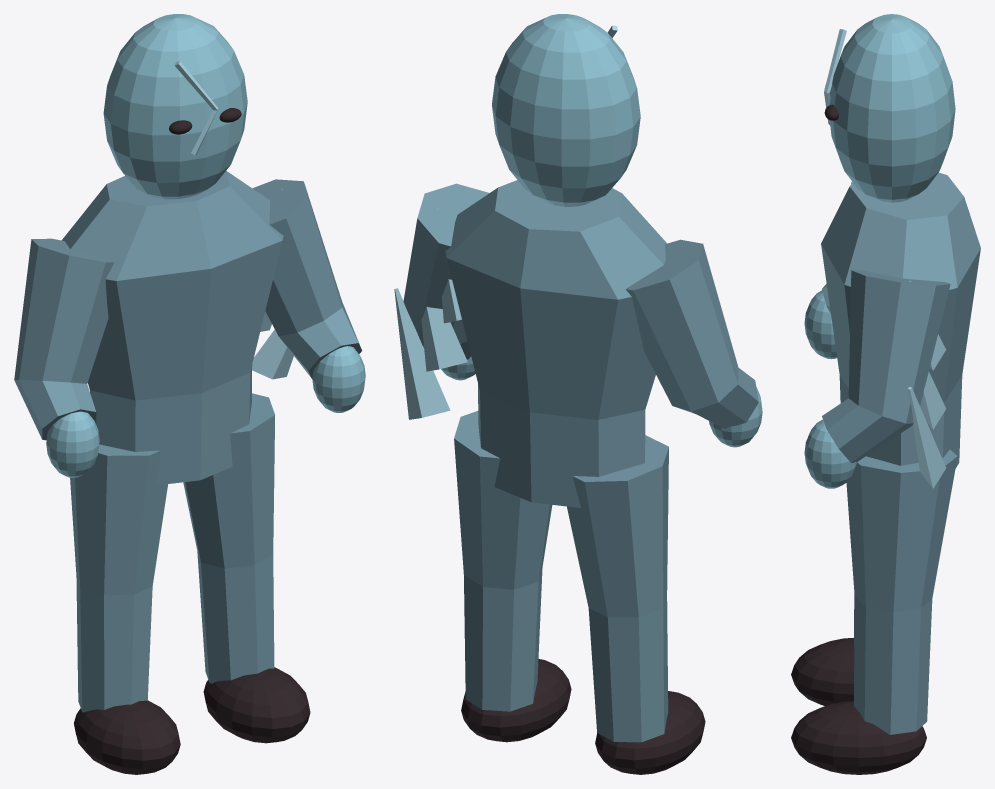
File: monster-upon-reflection-mirror-being.glb
3 renders of one model, left to right at view 1: azimuth 30°, elevation 25°; view 2: azimuth 150°, elevation 25°; view 3: azimuth 270°, elevation 25°, orthographic. The views are drawn at different scales.
Visible parts, largest first — view 1: upon-reflection-mirror-being; view 2: upon-reflection-mirror-being; view 3: upon-reflection-mirror-being.
Part boxes in pixels (x1,y1,x2,y2): upon-reflection-mirror-being: [14, 14, 365, 774]; upon-reflection-mirror-being: [394, 14, 762, 774]; upon-reflection-mirror-being: [791, 14, 980, 774].
Size of the model in its own units: 0.4977 by 1.06 by 0.254.
